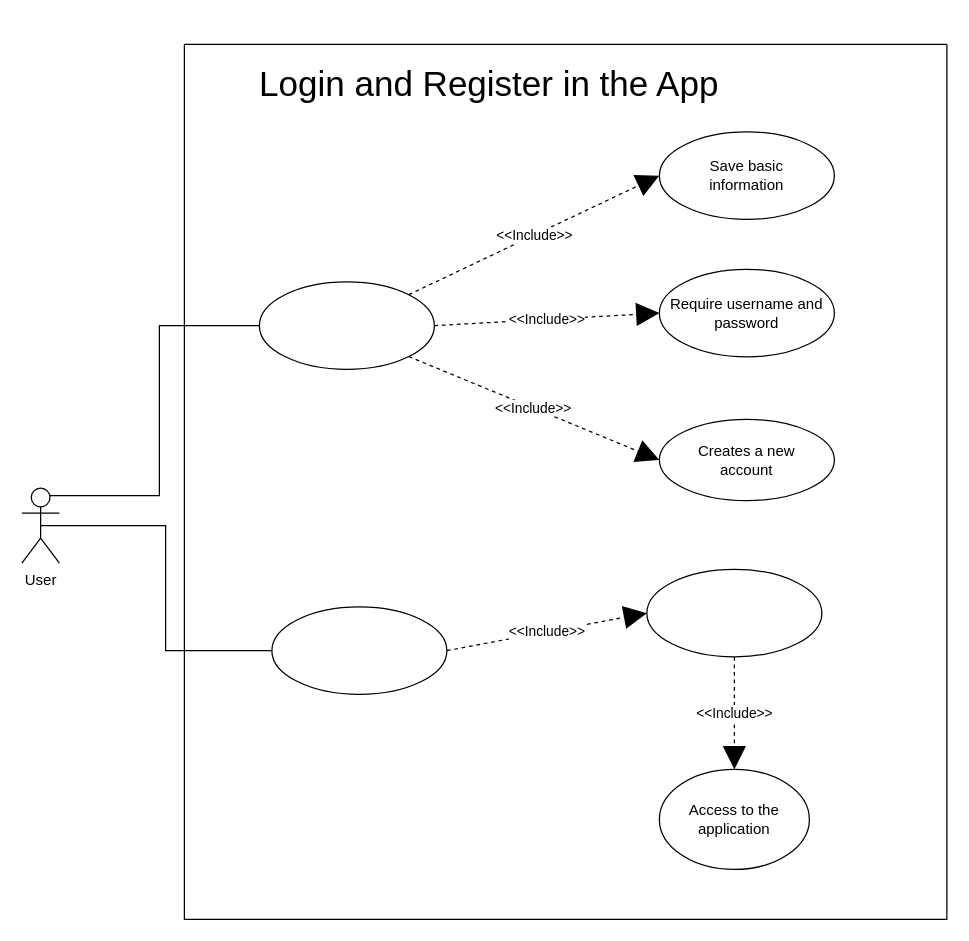
The diagram is 969 pixels wide and 941 high, and some of its shapes have lost their labels. Here are the shapes that lost their labels. From the top down, the centre of each, then its label:
At point (346, 325): "Register".
At point (734, 612): "Verify username and Password".
At point (359, 650): "Login".
